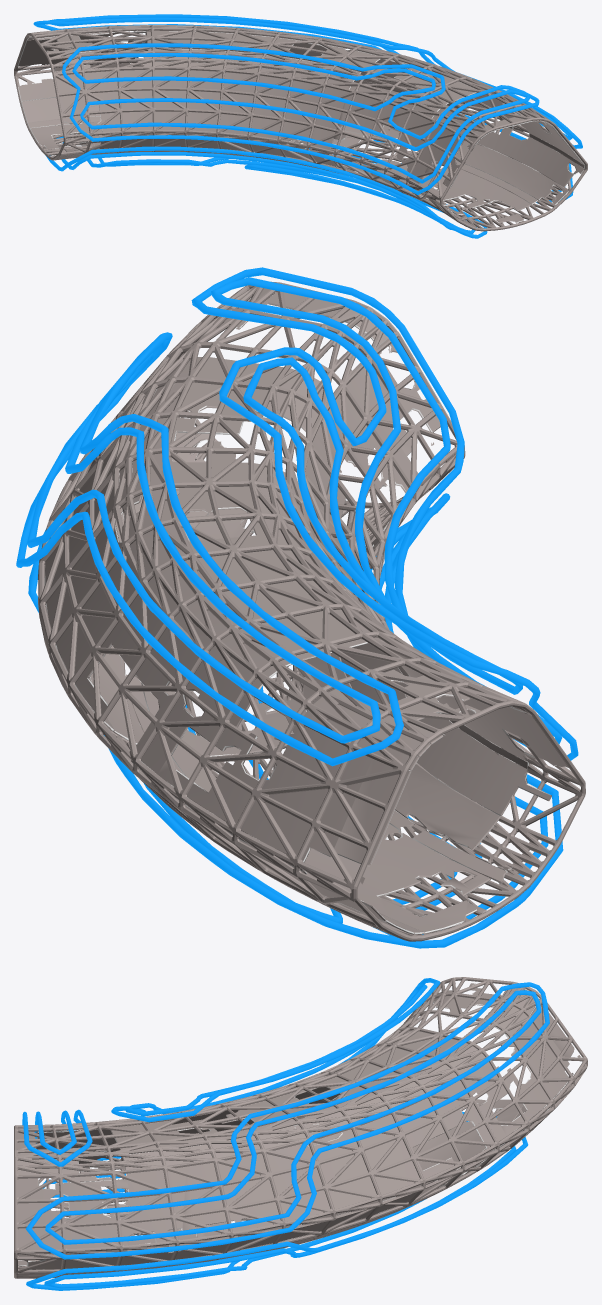
File: Tunnel_Panels_curved.fbx
3 renders of one model, top to bottom at view 1: azimuth 30°, elevation 25°; view 2: azimuth 150°, elevation 25°; view 3: azimuth 270°, elevation 25°, orthographic. The views are drawn at different scales.
Parts seen in each view (by area): view 1: trapezoid.175_ContourCurves.003, trapezoid.175_ContourCurves.002; view 2: trapezoid.175_ContourCurves.003, trapezoid.175_ContourCurves.002; view 3: trapezoid.175_ContourCurves.003, trapezoid.175_ContourCurves.002.
Boxes of the visible parts, box(x1,y1,x2,y2) form: trapezoid.175_ContourCurves.003: box(16, 14, 584, 238); trapezoid.175_ContourCurves.002: box(14, 25, 587, 231); trapezoid.175_ContourCurves.003: box(16, 267, 578, 948); trapezoid.175_ContourCurves.002: box(38, 281, 585, 941); trapezoid.175_ContourCurves.003: box(17, 978, 580, 1290); trapezoid.175_ContourCurves.002: box(14, 977, 587, 1278).
Size of what is drawn, in the model's own units: 18904 by 6015 by 21084.
